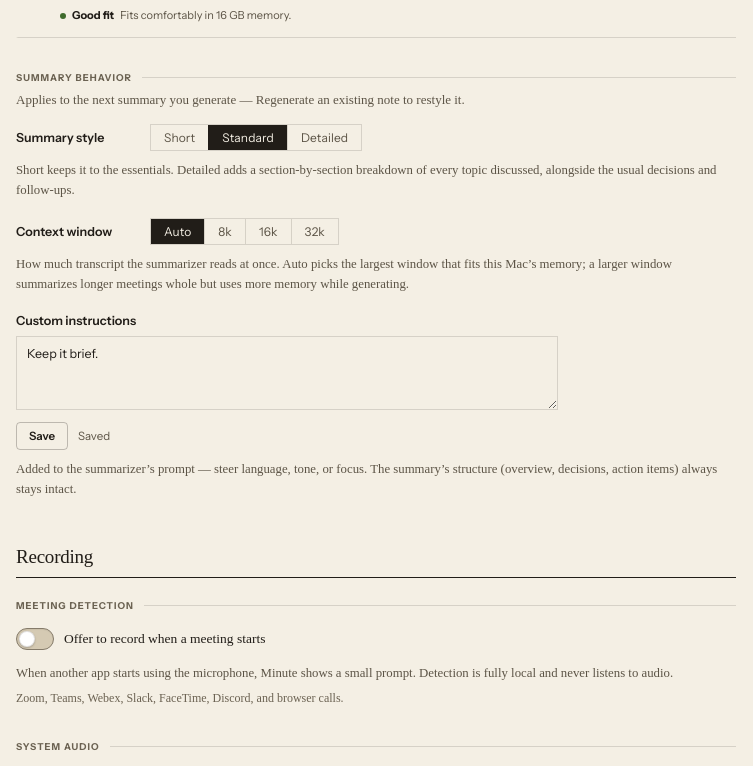
Test: SettingsView › Summary behavior — style and context window › disables Save while the draft matches the persisted value and shows Saved
The image size is (753, 766).
(page scrolled)
Expected: the button "Save" is disabled, [16,422,68,450]
Expected: the text "Saved" is shown, [78,429,110,443]
Replace the text in the text box labelled "Custom instructions" with "Keep it very brief." at (287, 373), box [16,336,558,410]
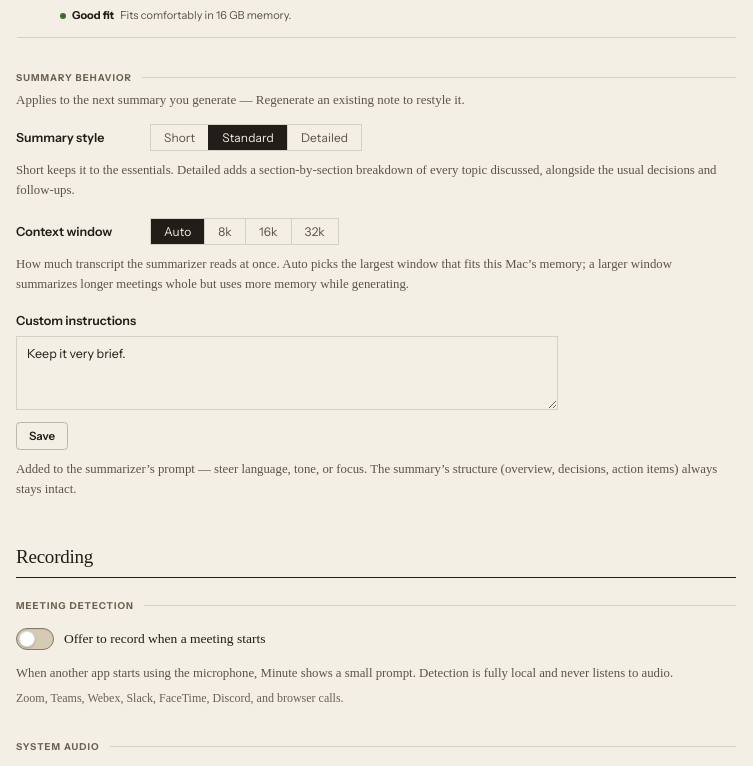
Expected: the button "Save" is enabled, [16,422,68,450]
Now the text "Saved" is gone
